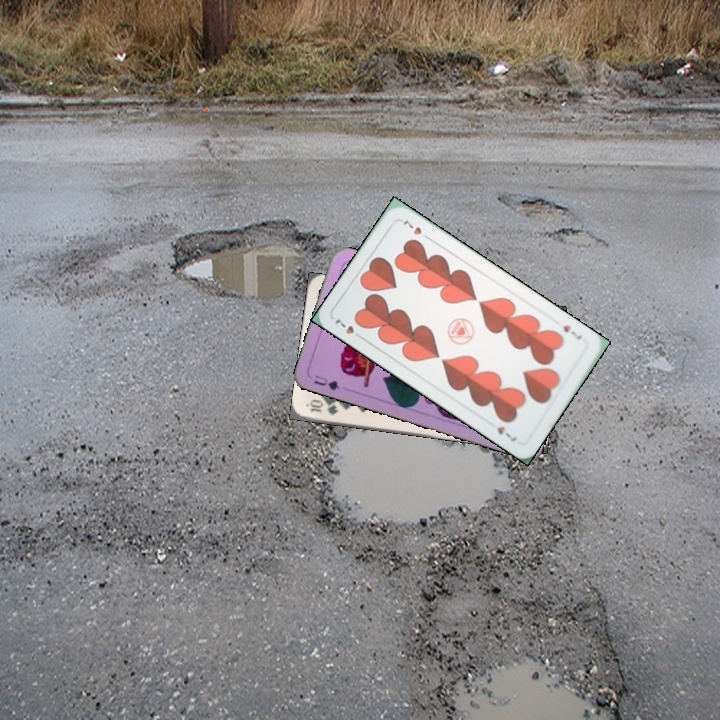G10: (306, 397, 341, 418)
GU: (310, 371, 343, 393)
H7: (331, 315, 366, 342), (559, 321, 585, 343)
